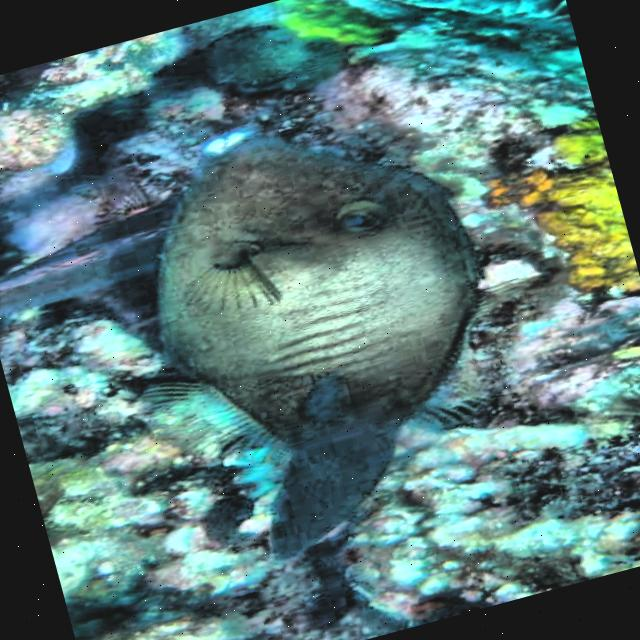fish: (69, 72, 572, 582)
